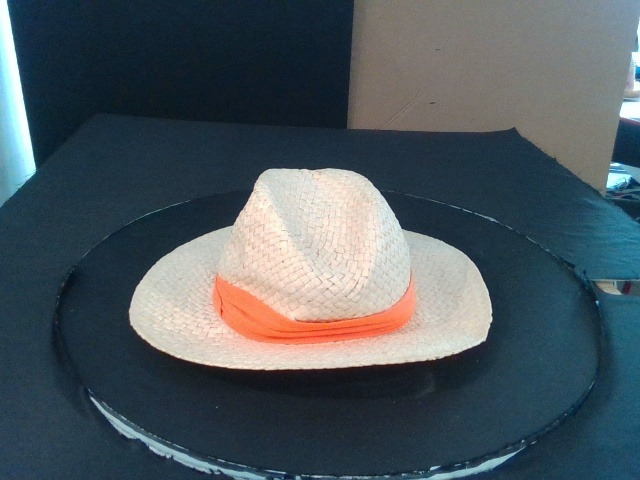hat: (129, 168, 492, 369)
